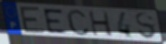4: (115, 11, 135, 39)
C: (65, 8, 91, 37)
E: (19, 6, 47, 35), (42, 8, 69, 34)
H: (87, 10, 114, 37)
S: (135, 11, 159, 41)
